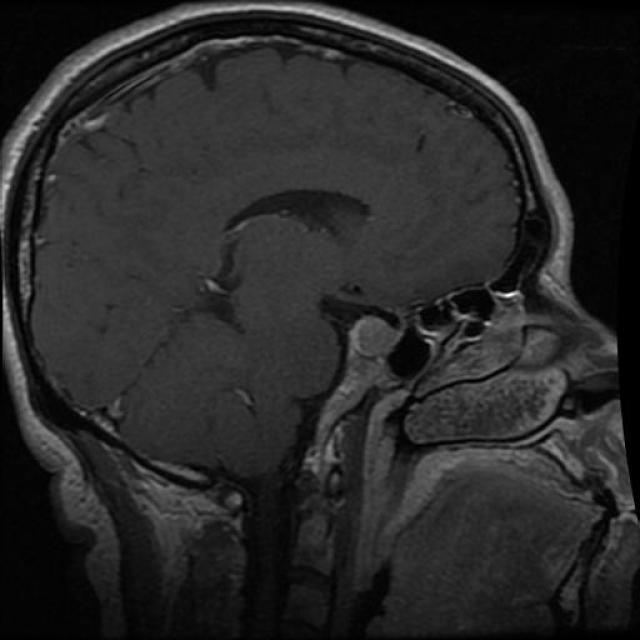pituitary: (332, 288, 410, 386)
